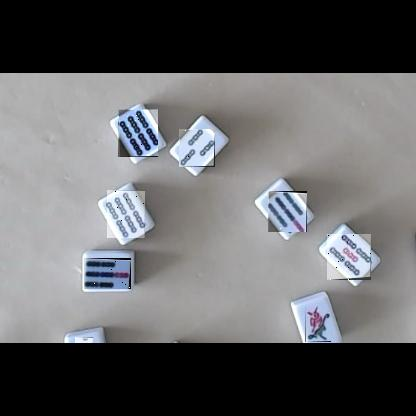1s: (305, 304, 331, 342)
2s: (75, 337, 93, 343)
3s: (179, 129, 215, 167)
5s: (327, 234, 371, 280)
6s: (118, 109, 158, 157), (107, 190, 145, 238)
7s: (268, 191, 307, 232), (84, 258, 131, 289)
